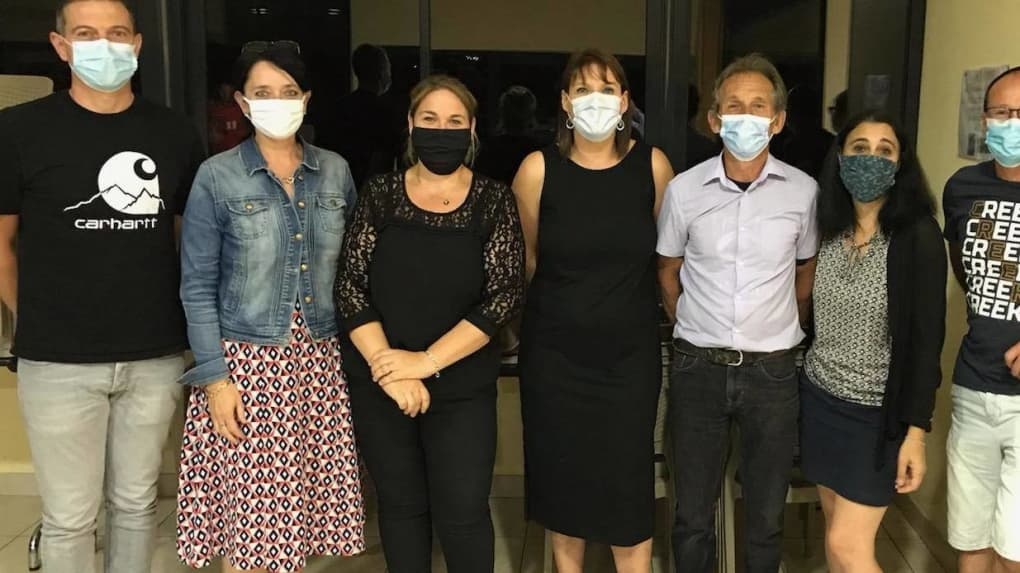with_mask: (63, 15, 138, 101), (242, 68, 312, 148), (407, 96, 475, 175), (842, 124, 902, 204), (716, 82, 778, 156), (570, 71, 620, 144), (981, 82, 1020, 169)
